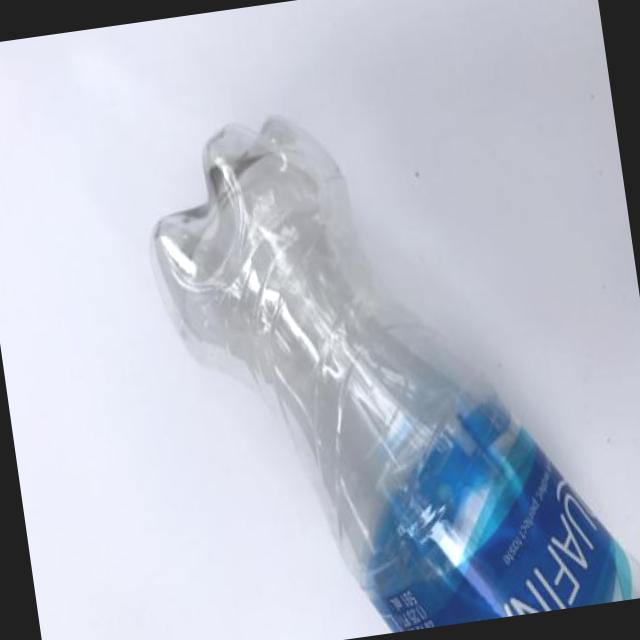Recycle: (132, 70, 640, 640)
